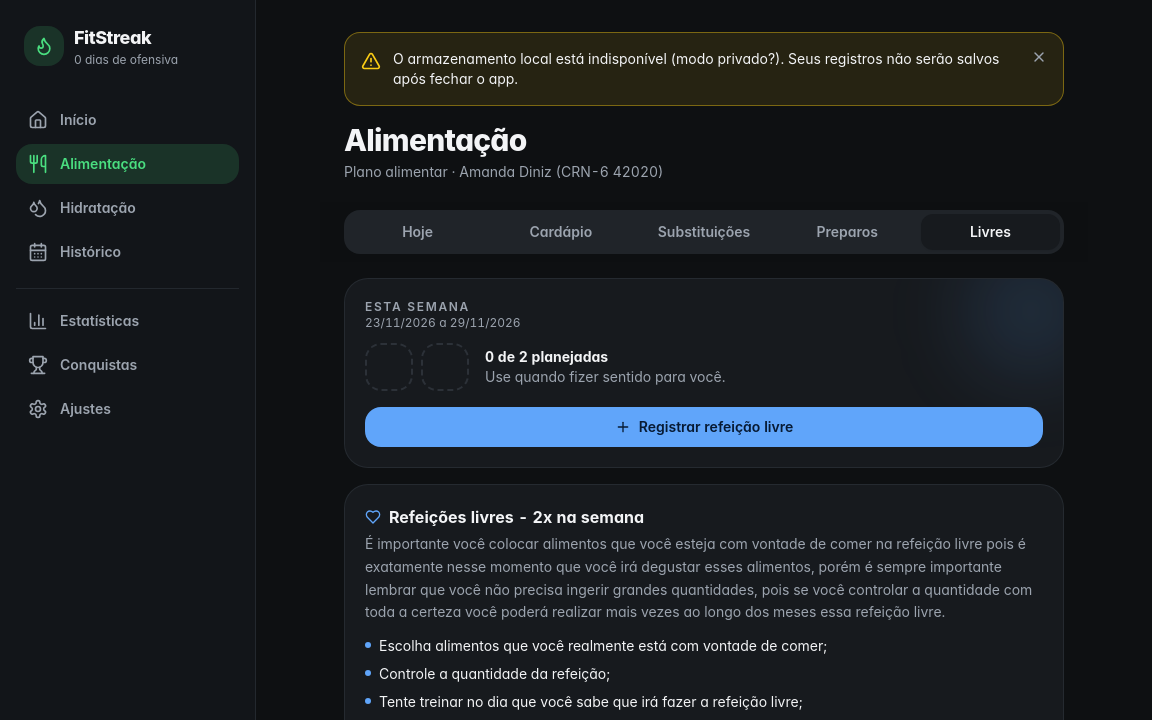
Test: fluxos principais › registra refeição livre sem quebrar a ofensiva
Click the button "Registrar refeição livre": click(704, 427) [365, 407, 1043, 447]
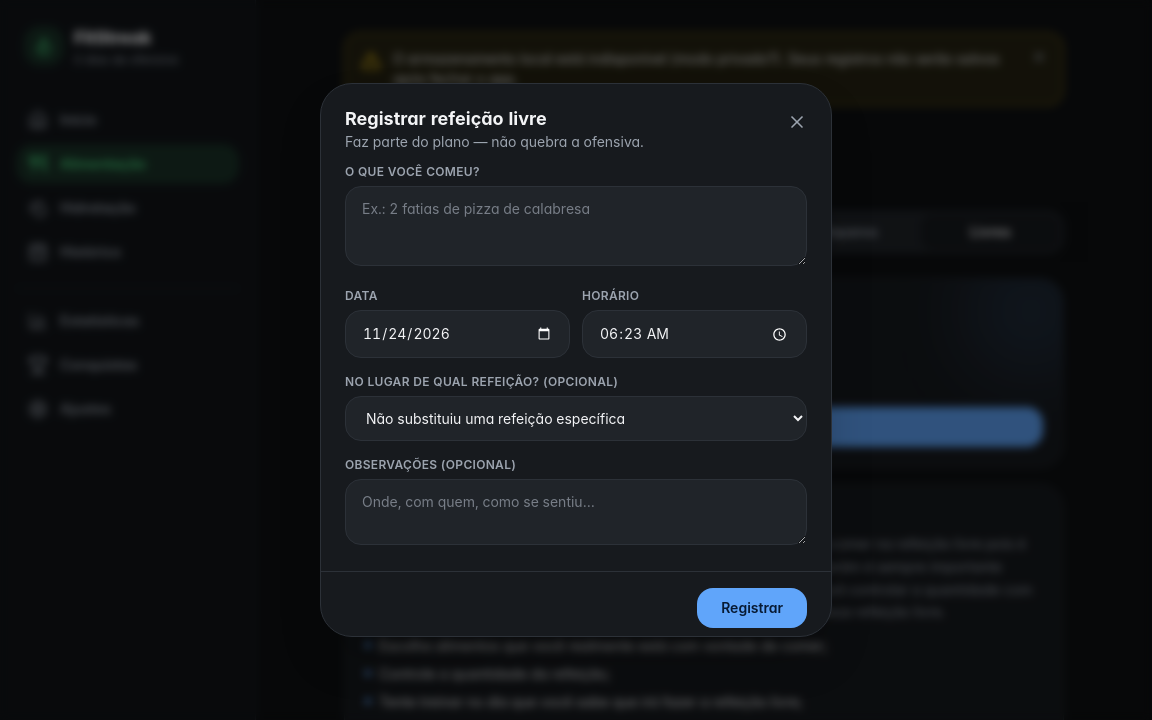
In the text box labelled "O que você comeu?": (576, 226) [345, 186, 807, 266], type "Pizza"
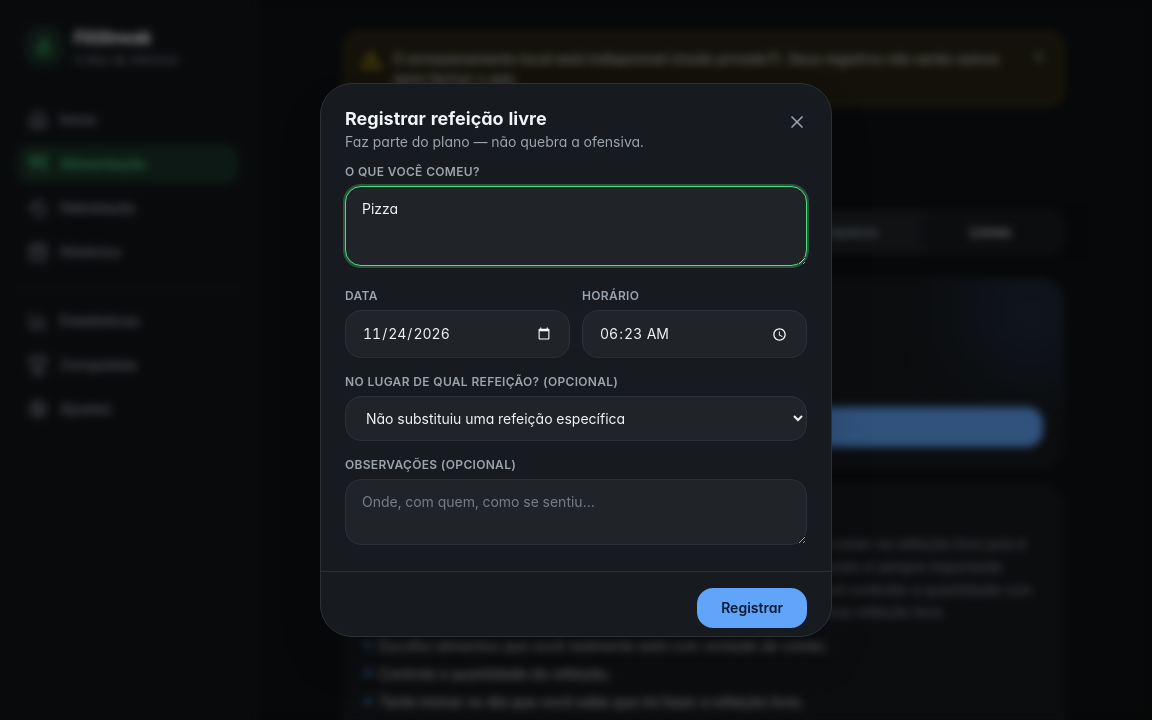
Click the button "Registrar": click(752, 608) [697, 588, 807, 628]
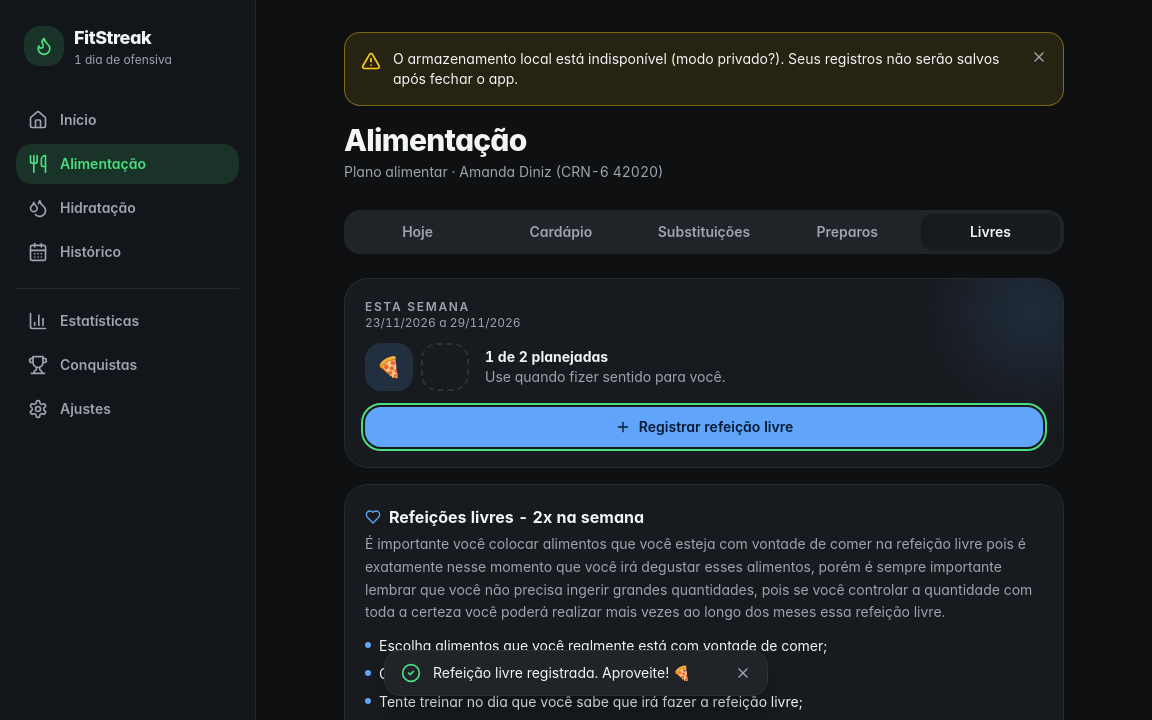
Expected: the text "1 de 2 planejadas" is shown, [485, 348, 608, 365]
